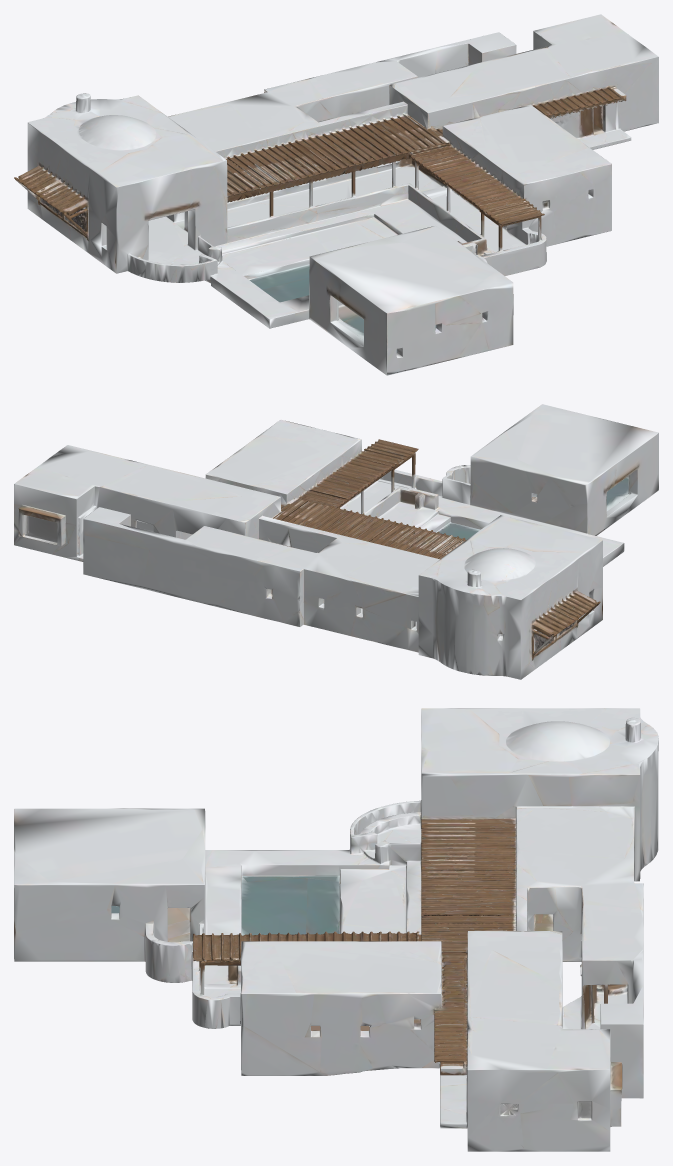
File: villa-S-mobile.glb
3 views of the same model, one above another, from view 1: azimuth 30°, elevation 25°; view 2: azimuth 150°, elevation 25°; view 3: azimuth 270°, elevation 25° (orthographic). The views are drawn at different scales.
Size of the model in its own units: 1.9 by 0.3484 by 1.47.
Materials: 1 (1 with a texture image).
